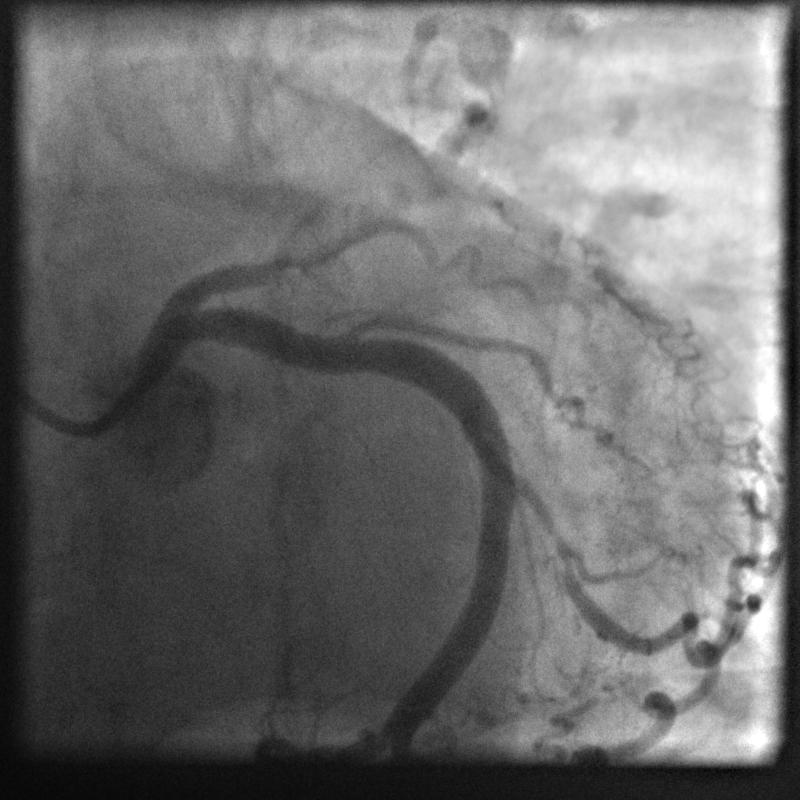Stenosis: (501, 448, 584, 574)
